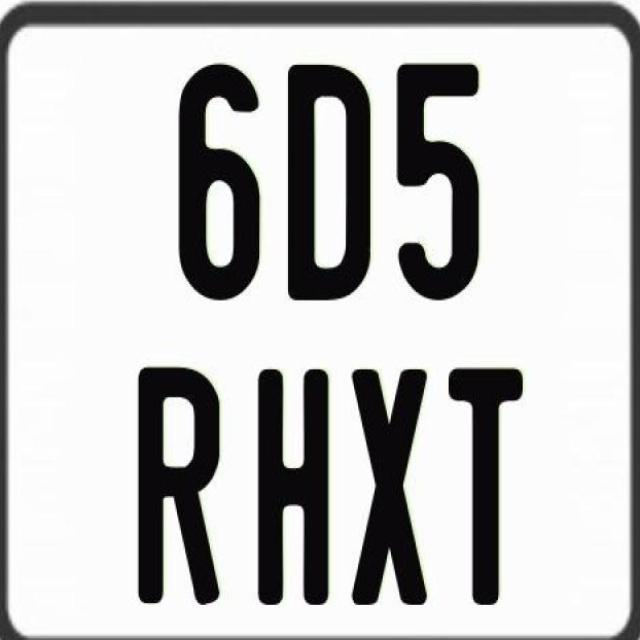license-plate: (19, 16, 635, 640)
